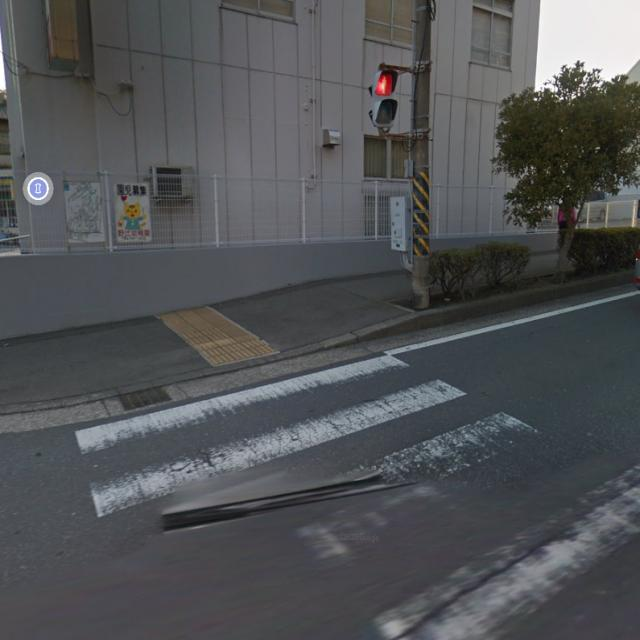traffic-light: (360, 62, 401, 128)
